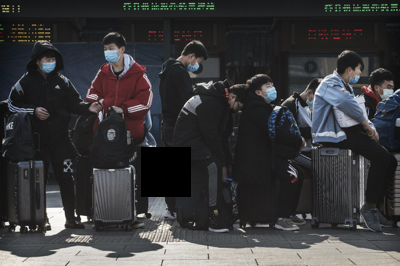mask_weared_incorrect: (349, 71, 363, 86)
with_mask: (104, 45, 120, 63), (41, 57, 57, 74), (263, 84, 278, 102), (381, 82, 395, 100), (188, 60, 202, 73)
